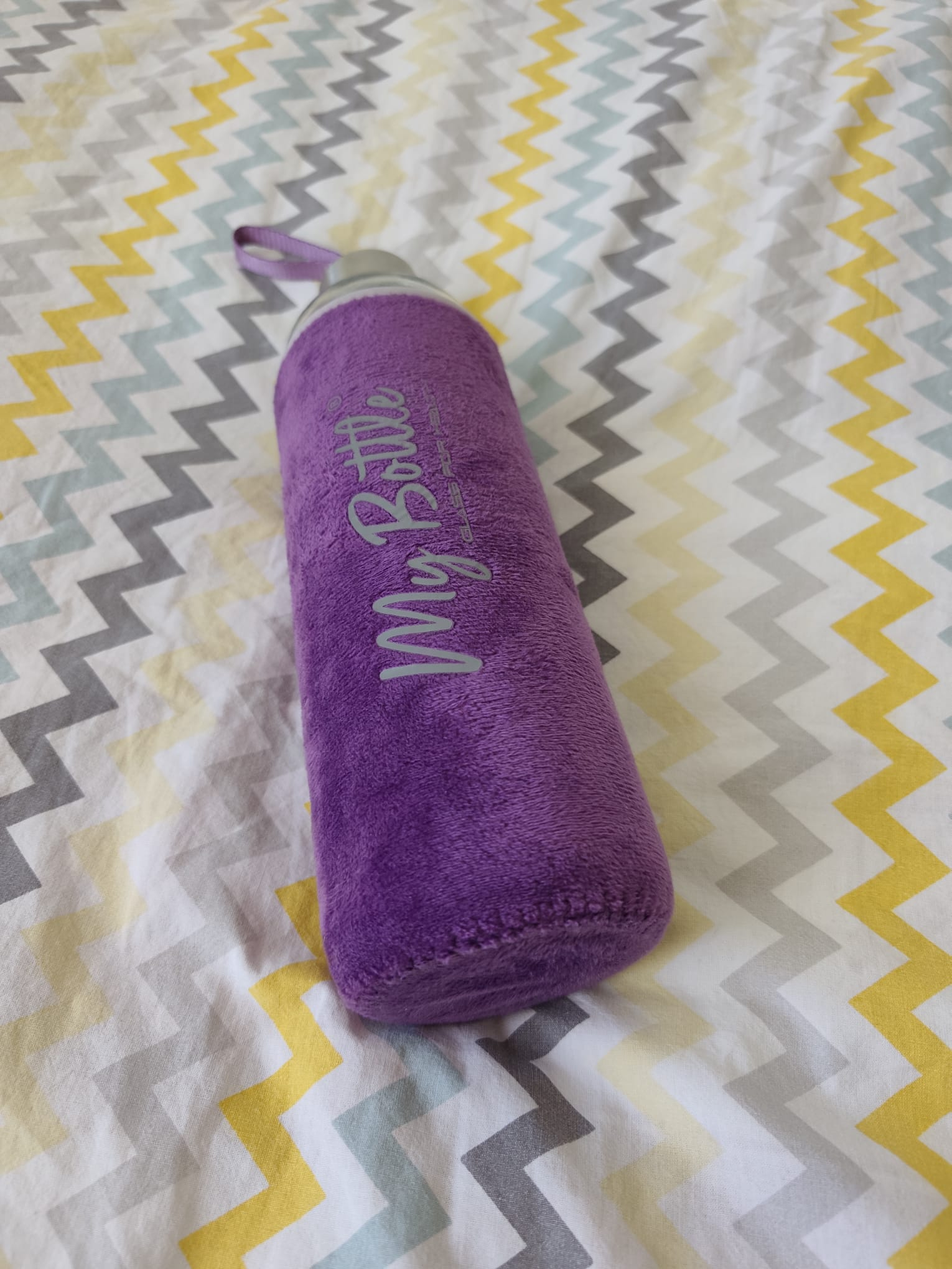su_sisesi: (240, 228, 678, 1016), (236, 230, 671, 1023), (245, 233, 675, 1017)
